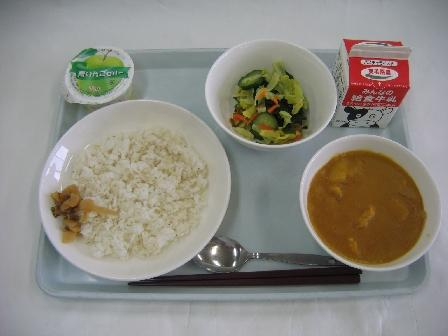Cup desserts: (58, 35, 145, 109)
Curry: (309, 143, 437, 265)
Milk: (334, 26, 416, 129)
Rice: (88, 131, 221, 257)
Salad: (220, 53, 325, 137)
vegetable based cooked food: (43, 184, 104, 242)
